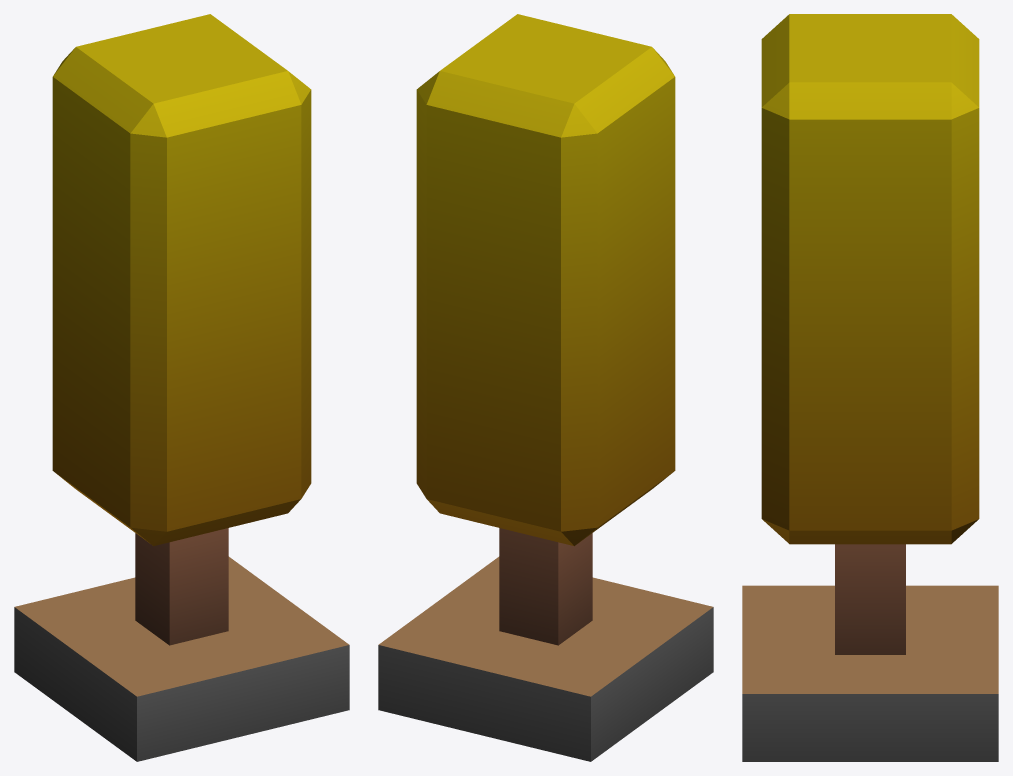
Rendered from tree 10.fbx.
3 renders of one model, left to right at view 1: azimuth 30°, elevation 25°; view 2: azimuth 150°, elevation 25°; view 3: azimuth 270°, elevation 25°, orthographic. The views are drawn at different scales.
Parts seen in each view (by area): view 1: tree_10; view 2: tree_10; view 3: tree_10.
Boxes of the visible parts, x1=… form: tree_10: x1=14, y1=14, x2=349, y2=761; tree_10: x1=378, y1=14, x2=713, y2=761; tree_10: x1=742, y1=14, x2=998, y2=761.
Size of the model in its own units: 86.19 by 245 by 86.19.
Materials: 1 (1 with a texture image).
